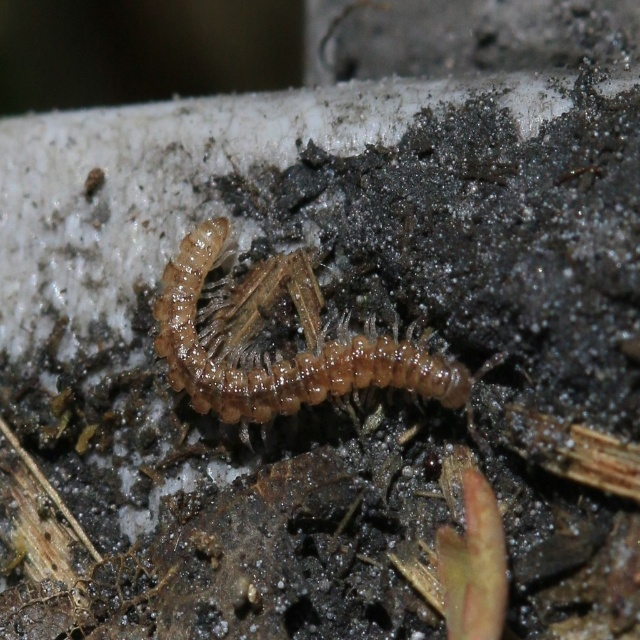Centipede: (150, 216, 510, 426)
